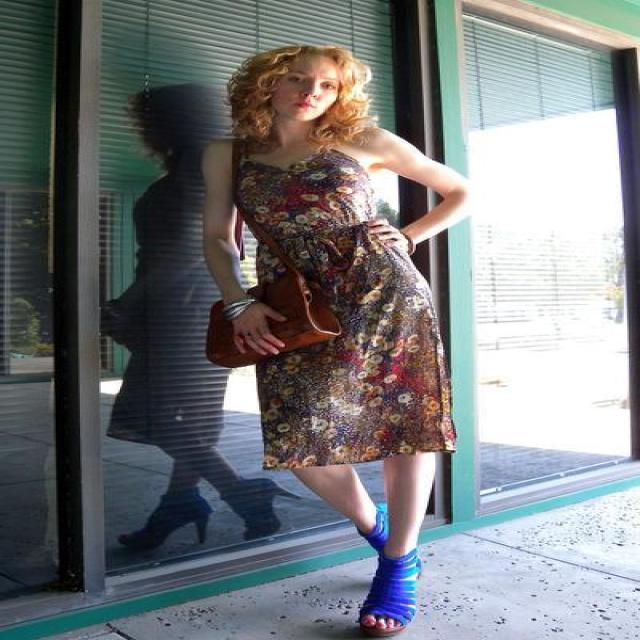bag: (205, 269, 360, 367)
dress: (229, 152, 456, 472)
shoe: (358, 550, 419, 623)
